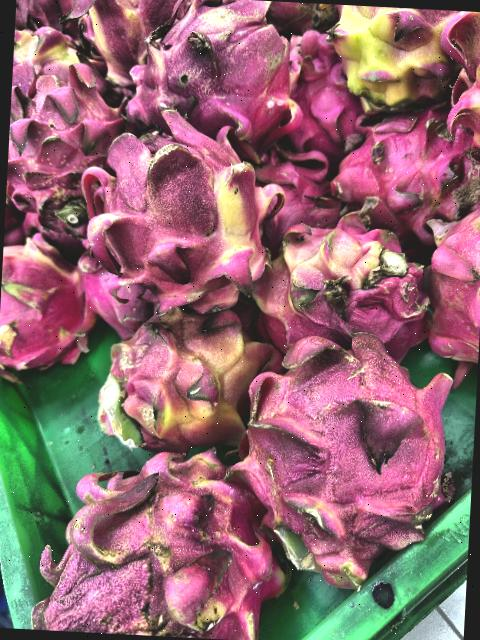buah-naga-belum-matang: (80, 112, 282, 312), (90, 292, 279, 448), (243, 208, 428, 349), (125, 0, 301, 140), (316, 4, 456, 101), (0, 238, 92, 377), (68, 0, 171, 79), (432, 10, 480, 160), (12, 26, 95, 84)
buah-naga-matang: (224, 312, 466, 592), (9, 447, 298, 640), (327, 109, 480, 230), (7, 69, 128, 192), (274, 28, 364, 152), (416, 200, 480, 354), (246, 145, 346, 232), (4, 168, 94, 245)
